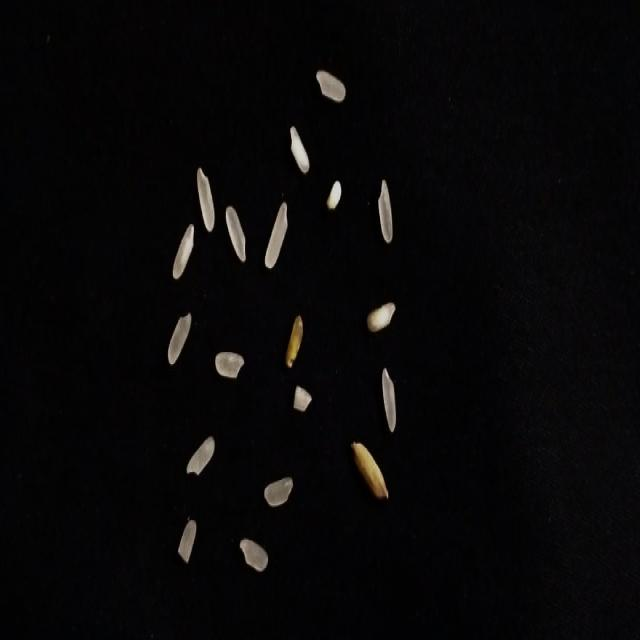Broken: (351, 442, 389, 499), (286, 316, 303, 368), (178, 520, 196, 564), (294, 385, 312, 412), (326, 181, 342, 210)
Full: (265, 202, 287, 269), (167, 312, 192, 366), (172, 223, 194, 280), (196, 168, 215, 232), (226, 207, 246, 262), (187, 436, 215, 475), (316, 70, 346, 103), (290, 126, 310, 174), (239, 539, 268, 572), (382, 367, 396, 434), (378, 178, 392, 244), (367, 302, 396, 332), (264, 478, 293, 507), (215, 352, 244, 378)
